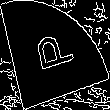P_W: (31, 30, 79, 80)
